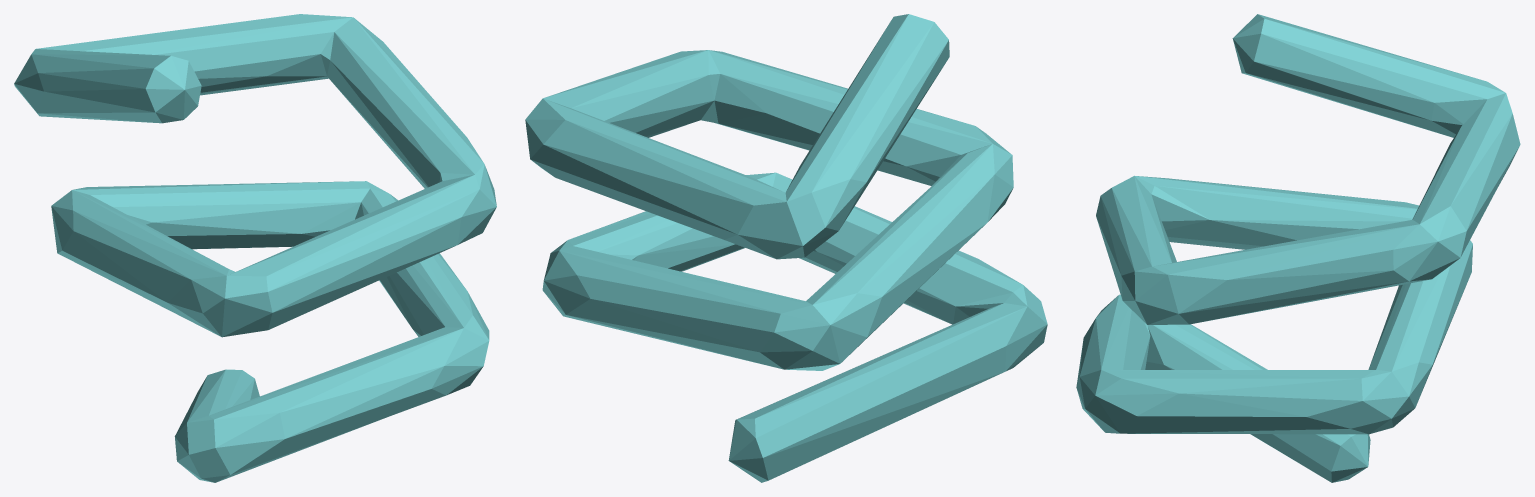
The model's file is Blowboi.fbx.
3 renders of one model, left to right at view 1: azimuth 30°, elevation 25°; view 2: azimuth 150°, elevation 25°; view 3: azimuth 270°, elevation 25°, orthographic. The views are drawn at different scales.
Parts seen in each view (by area): view 1: Cube; view 2: Cube; view 3: Cube.
Part boxes in pixels (x1,y1,x2,y2): Cube: (14, 14, 496, 482); Cube: (525, 14, 1047, 482); Cube: (1076, 14, 1520, 482).
Bounding box in the file's own units: 130 × 157 × 152.
